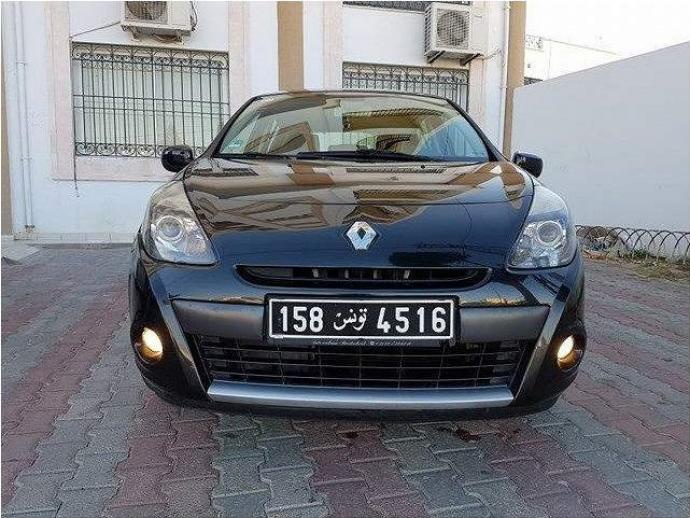LP: (264, 295, 457, 342)
